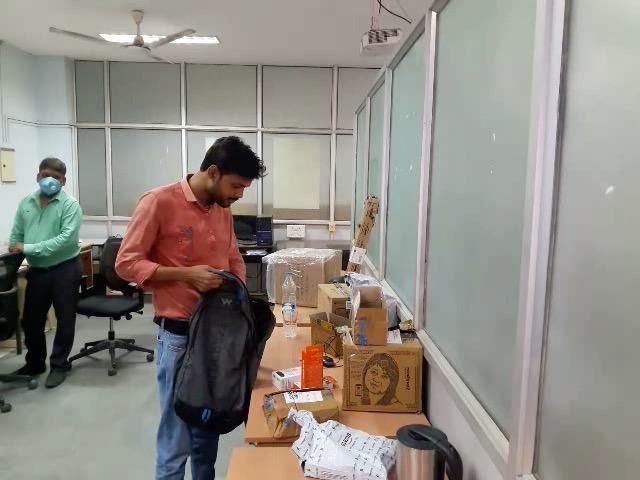shoplifting: (111, 239, 281, 457)
